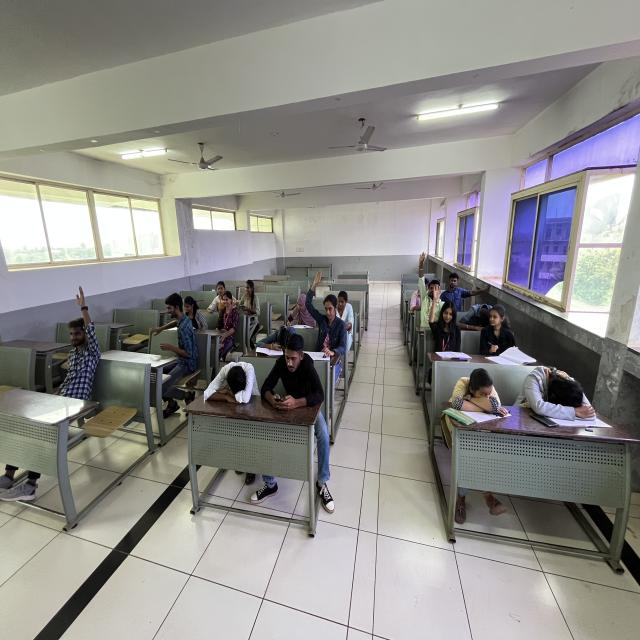Hand Rising: (50, 276, 109, 391), (307, 265, 347, 352), (416, 249, 448, 315), (427, 284, 458, 346)
Sleeping: (520, 353, 617, 419), (200, 353, 262, 410), (256, 308, 295, 351), (462, 291, 498, 331)
Using Phone: (269, 334, 324, 410), (239, 278, 260, 314)
Writing: (479, 300, 520, 360), (276, 268, 312, 327)
